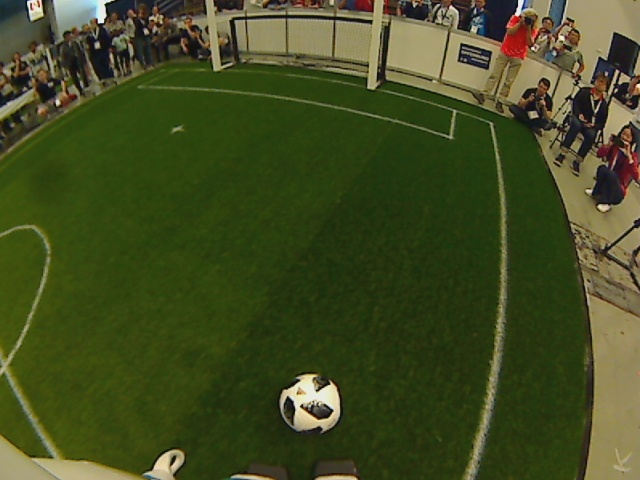ball: (276, 371, 342, 437)
